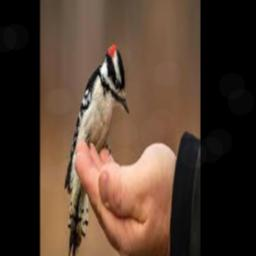Woodpecker: (64, 42, 129, 256)
